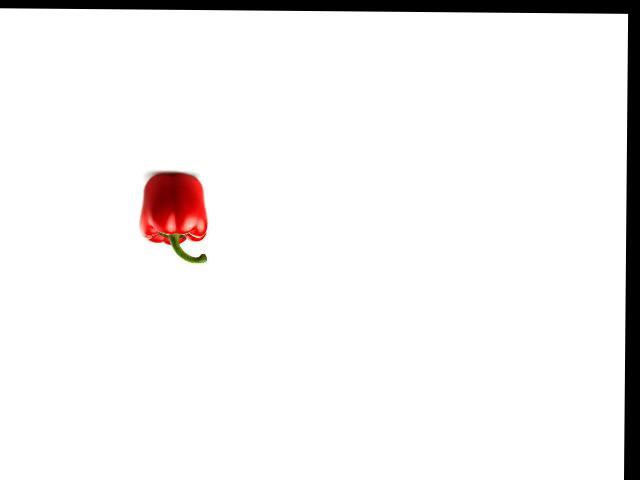bell_pepper: (141, 172, 210, 264)
